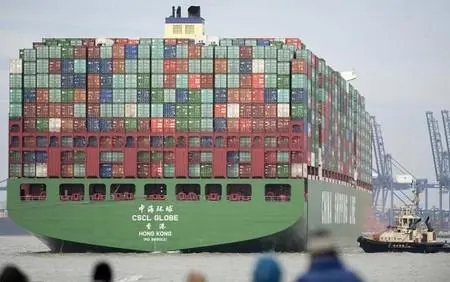Cargoship: (1, 5, 379, 252)
